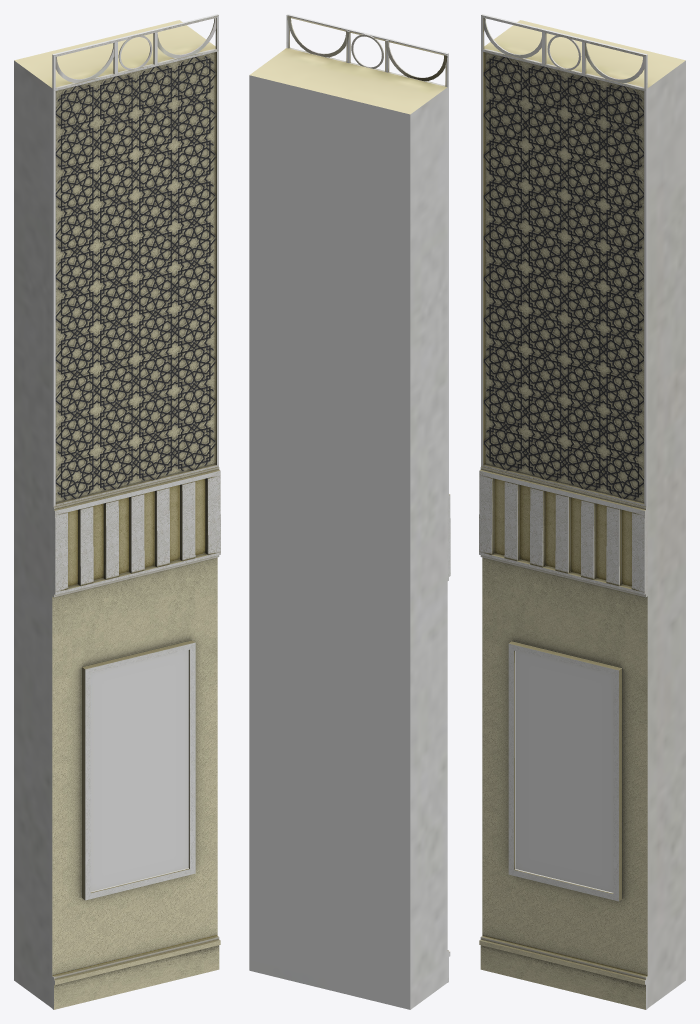
File: midwall_1.glb
3 renders of one model, left to right at view 1: azimuth 30°, elevation 25°; view 2: azimuth 150°, elevation 25°; view 3: azimuth 330°, elevation 25°, orthographic. The views are drawn at different scales.
Visible parts, largest first — view 1: midwall_1; view 2: midwall_1; view 3: midwall_1.
Part boxes in pixels (x1,y1,x2,y2): midwall_1: (14, 14, 220, 1009); midwall_1: (249, 14, 450, 1009); midwall_1: (479, 14, 685, 1009).
Bounding box in the file's own units: 1.5 × 8.26 × 0.6527.
1 material, 1 textured.
